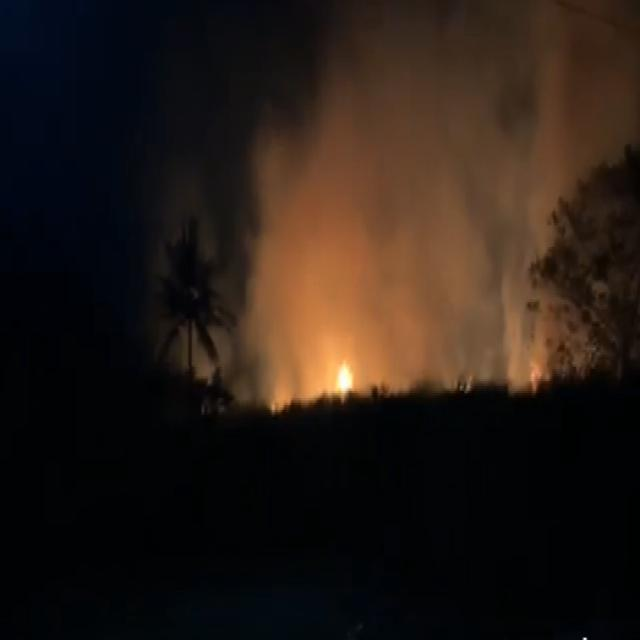Fire: (314, 351, 360, 401)
Smoke: (404, 0, 516, 396), (261, 114, 418, 380)
